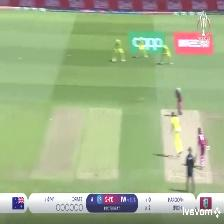ball: (46, 116, 54, 122)
batsman: (174, 84, 185, 116)
